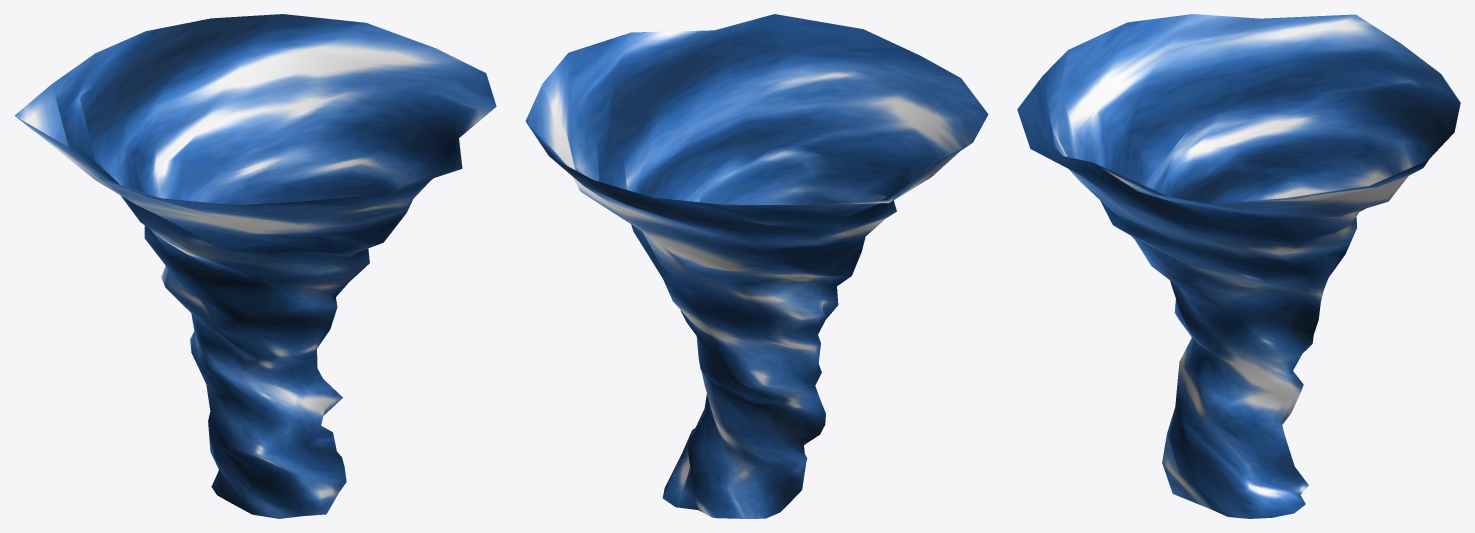
File: FBX_long1.FBX
3 renders of one model, left to right at view 1: azimuth 30°, elevation 25°; view 2: azimuth 150°, elevation 25°; view 3: azimuth 270°, elevation 25°, orthographic. The views are drawn at different scales.
Visible parts, largest first — view 1: Cylinder001; view 2: Cylinder001; view 3: Cylinder001.
Part boxes in pixels (x1=…): Cylinder001: x1=14, y1=14, x2=496, y2=518; Cylinder001: x1=525, y1=14, x2=988, y2=518; Cylinder001: x1=1017, y1=14, x2=1460, y2=518.
Size of the model in its own units: 117 by 108 by 115.
Materials: 1 (1 with a texture image).
